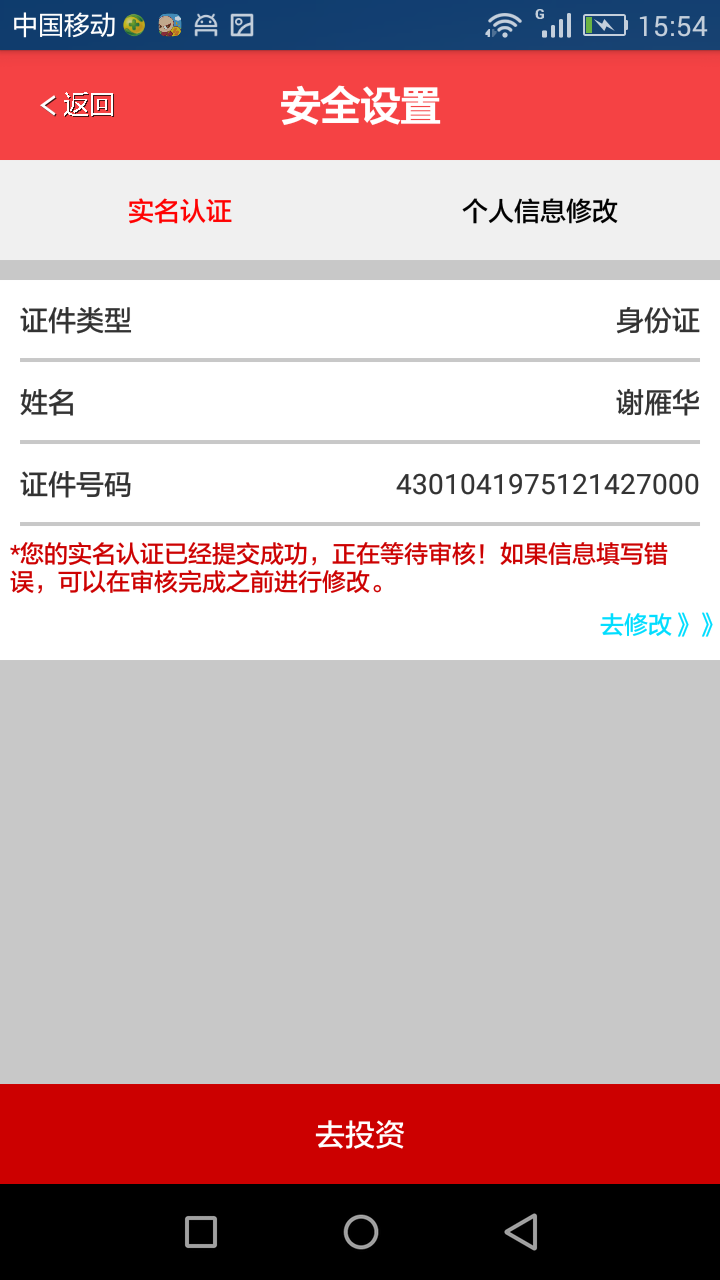button: (1, 1080, 720, 1187)
textview: (4, 277, 720, 671)
